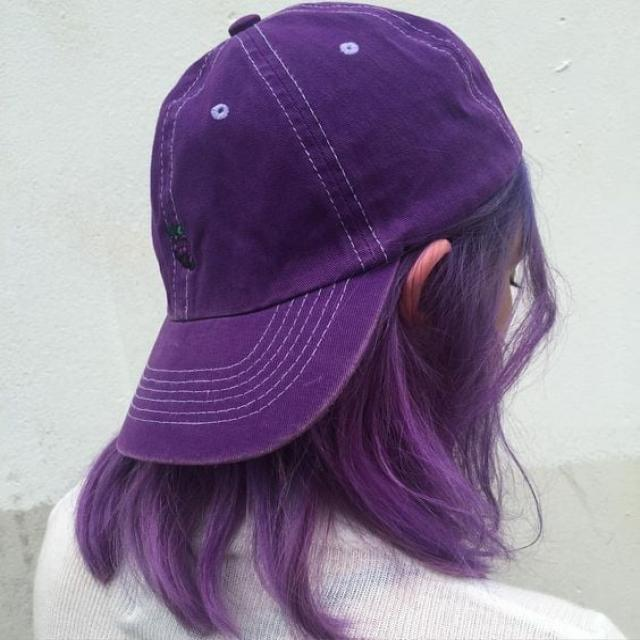no_helmet: (117, 0, 525, 464)
